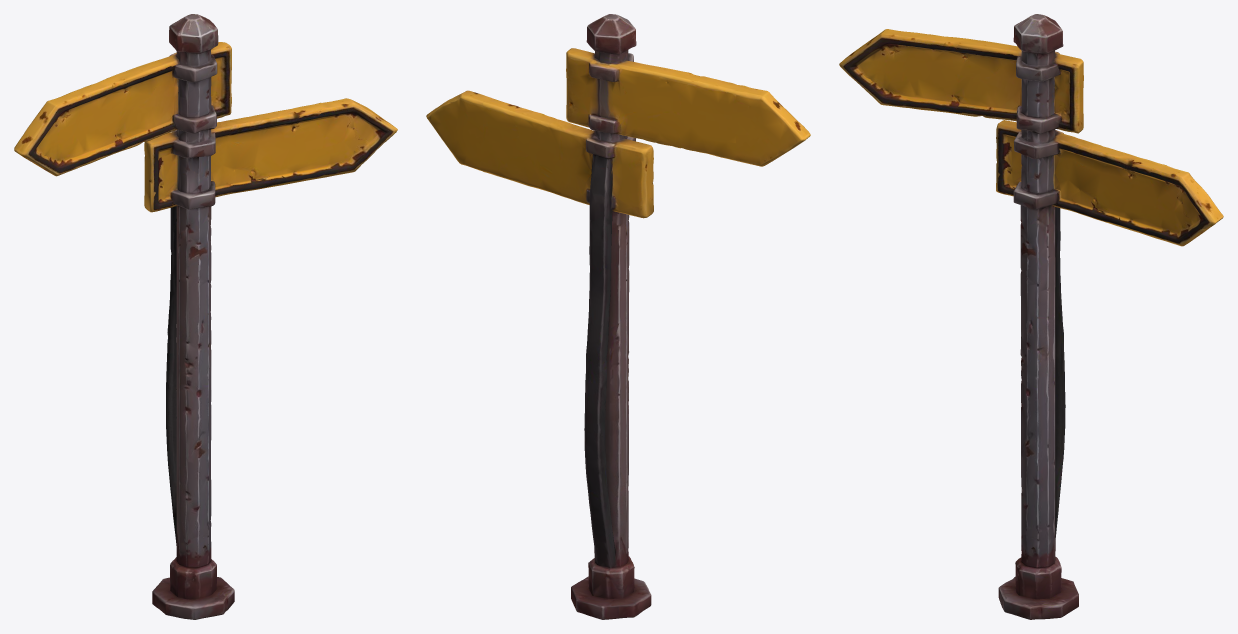
The model's file is signpost_fork_dorozhnyy_znak_idle.glb.
3 renders of one model, left to right at view 1: azimuth 30°, elevation 25°; view 2: azimuth 150°, elevation 25°; view 3: azimuth 330°, elevation 25°, orthographic.
Visible parts, largest first — view 1: tripo_node_eccb1edd-ce38-4e22-99ab-bbf2ef2590df; view 2: tripo_node_eccb1edd-ce38-4e22-99ab-bbf2ef2590df; view 3: tripo_node_eccb1edd-ce38-4e22-99ab-bbf2ef2590df.
Boxes of the visible parts, x1,y1,x2,y2 form: tripo_node_eccb1edd-ce38-4e22-99ab-bbf2ef2590df: [14, 14, 397, 619]; tripo_node_eccb1edd-ce38-4e22-99ab-bbf2ef2590df: [426, 14, 810, 619]; tripo_node_eccb1edd-ce38-4e22-99ab-bbf2ef2590df: [839, 14, 1223, 619].
Size of the model in its own units: 1.48 by 2.2 by 0.2692.
Materials: 1 (1 with a texture image).
